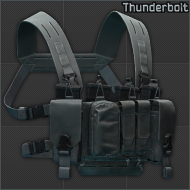Direct Action Thunderbolt compact chest rig: (0, 0, 190, 190)
